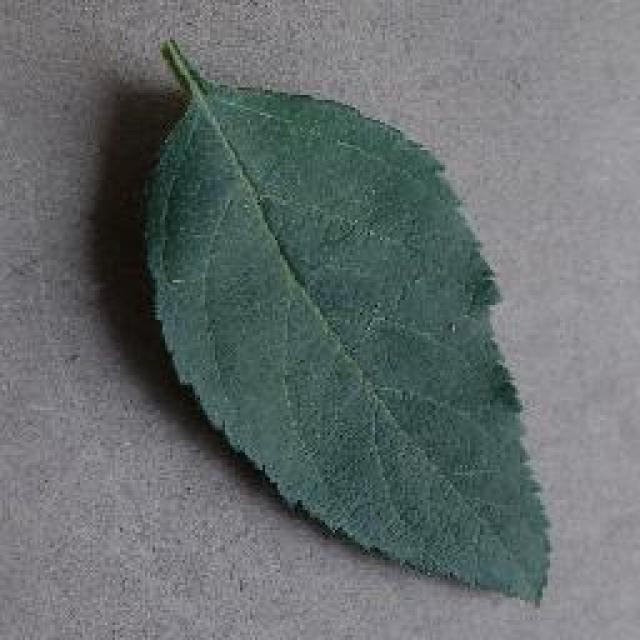apple healthy: (138, 35, 552, 605)
